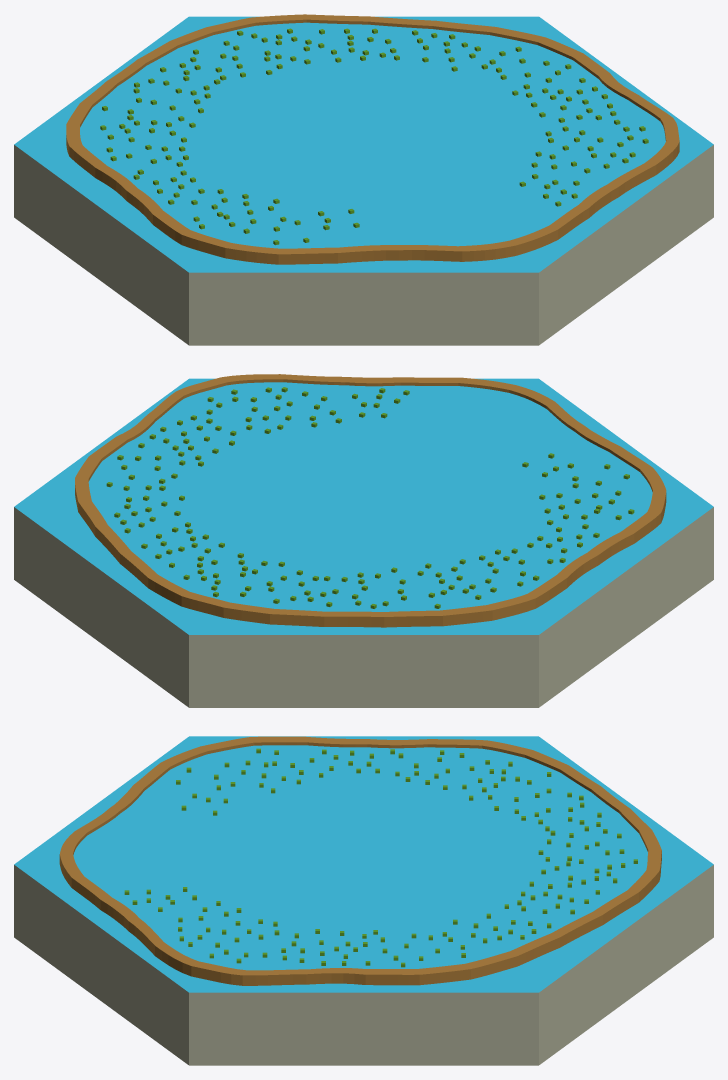
The model's file is Tuile_Eau_Champs.fbx.
The picture shows the model from 3 angles, top to bottom: view 1: azimuth 30°, elevation 25°; view 2: azimuth 150°, elevation 25°; view 3: azimuth 270°, elevation 25°; orthographic projection.
Visible parts, largest first — view 1: Eau, Tuile, Bord, Level 1; view 2: Eau, Tuile, Bord, Level 1; view 3: Eau, Tuile, Bord, Level 1.
Boxes of the visible parts, x1,y1,x2,y2 form: Eau: (80,22,665,248); Tuile: (14,16,713,345); Bord: (66,14,679,264); Level 1: (100,28,648,245); Eau: (88,382,652,611); Tuile: (14,378,713,707); Bord: (75,374,666,627); Level 1: (106,387,634,608); Eau: (73,745,647,970); Tuile: (14,736,713,1065); Bord: (59,736,661,985); Level 1: (124,748,637,967).
Bounding box in the file's own units: 107 × 16.24 × 124.
